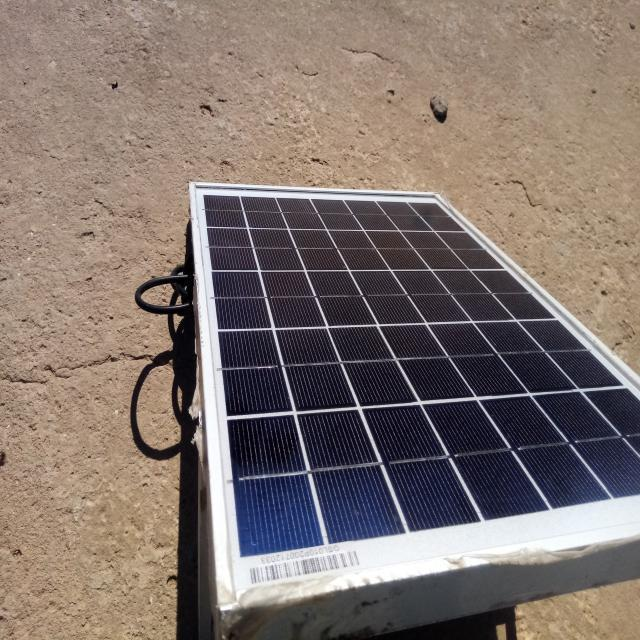Normal Solar Panel: (192, 189, 640, 607)
